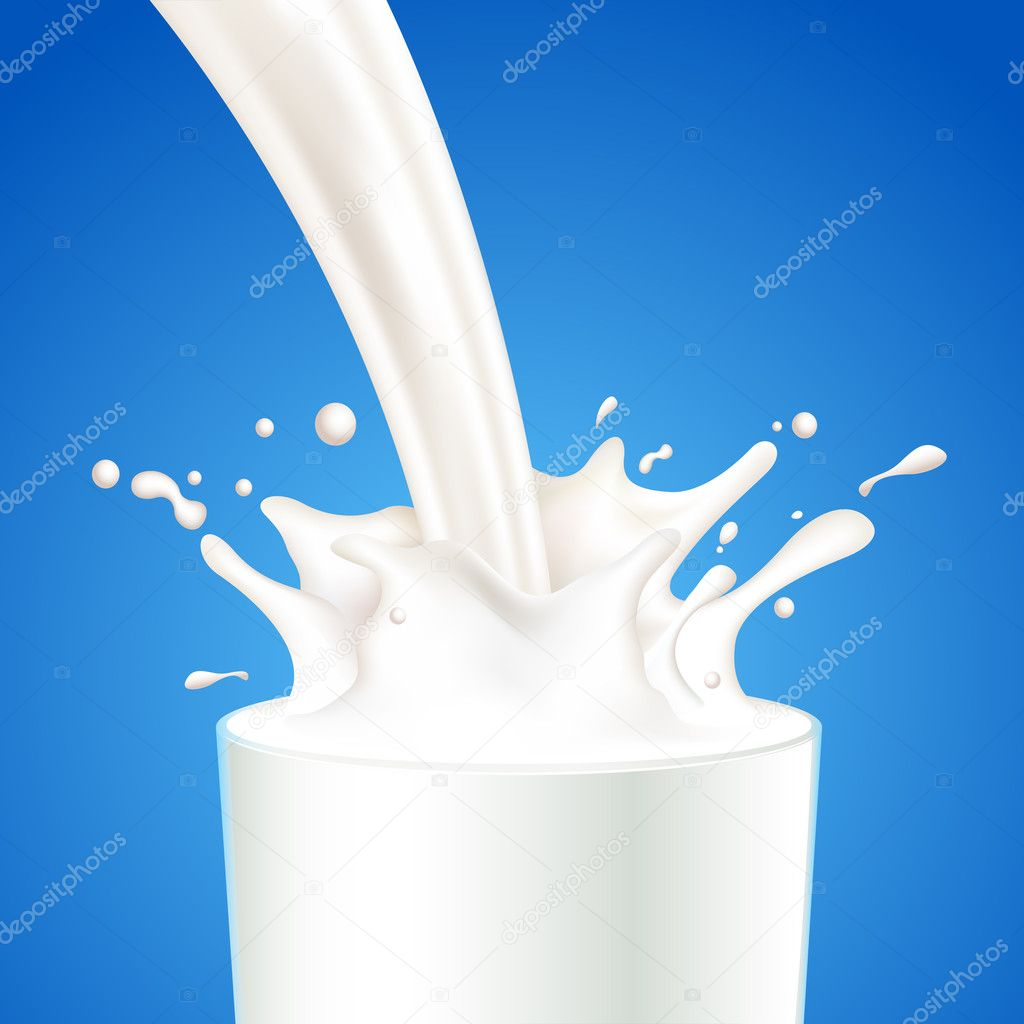glass of milk: (217, 653, 825, 1024)
